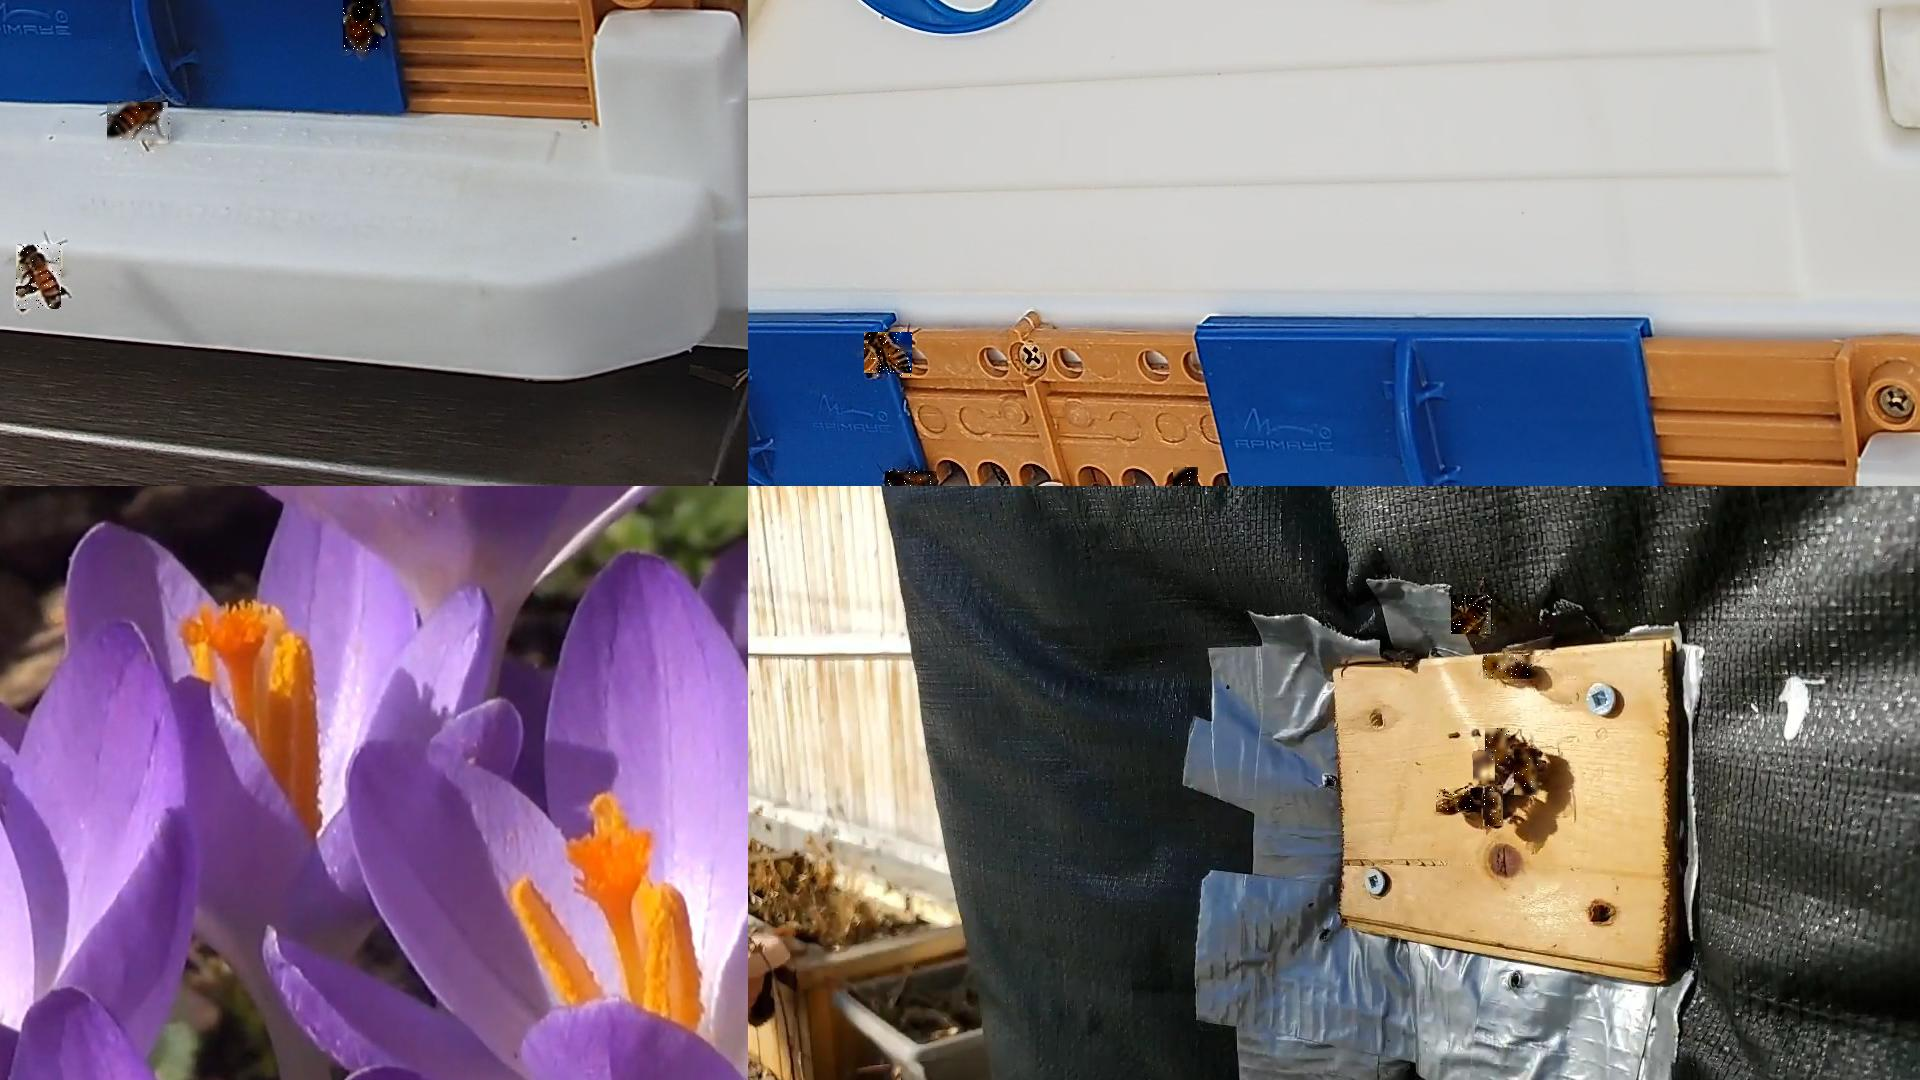bee: (107, 103, 169, 144), (864, 332, 914, 377), (1452, 595, 1495, 636), (1484, 655, 1535, 680), (1515, 749, 1542, 796), (1437, 789, 1481, 814), (1486, 728, 1510, 767), (1484, 786, 1505, 827), (885, 471, 939, 485), (1473, 752, 1497, 783), (1174, 467, 1200, 485)
pollenbee: (16, 244, 62, 310), (343, 0, 384, 53)
